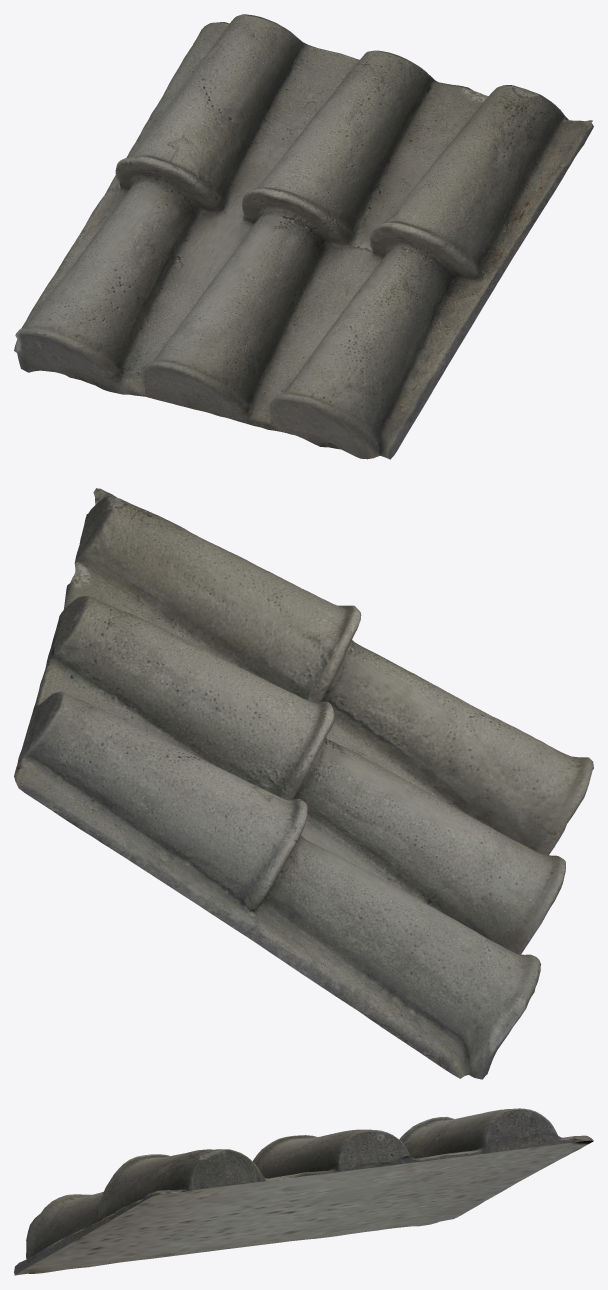
The model's file is Retopo_3DModel_mesh.074.glb.
The picture shows the model from 3 angles, top to bottom: view 1: azimuth 30°, elevation 25°; view 2: azimuth 150°, elevation 25°; view 3: azimuth 270°, elevation 25°; orthographic projection. The views are drawn at different scales.
Parts seen in each view (by area): view 1: Retopo_3DModel_mesh.074; view 2: Retopo_3DModel_mesh.074; view 3: Retopo_3DModel_mesh.074.
Part boxes in pixels (bbox=[...]): Retopo_3DModel_mesh.074: bbox=[14, 14, 593, 459]; Retopo_3DModel_mesh.074: bbox=[14, 488, 593, 1079]; Retopo_3DModel_mesh.074: bbox=[14, 1108, 593, 1275].
Size of the model in its own units: 4.65 by 2.61 by 5.26.
Materials: 1 (1 with a texture image).
